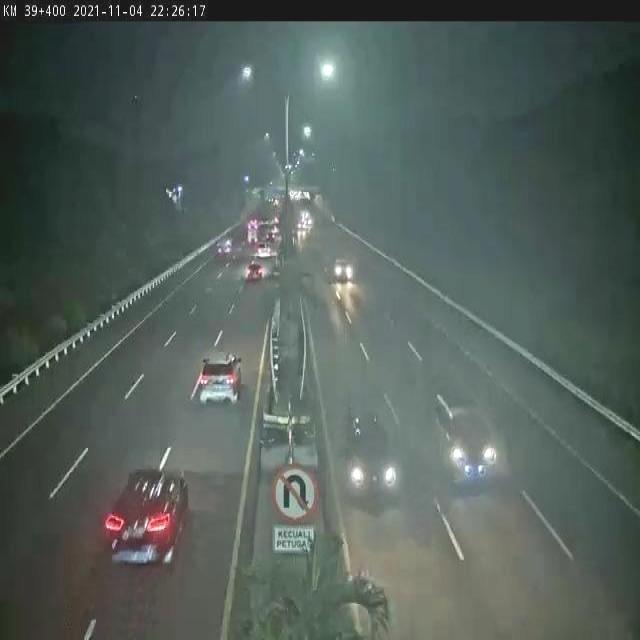Car: (106, 464, 190, 569), (198, 352, 243, 407), (332, 257, 354, 281), (246, 261, 264, 279), (257, 242, 272, 259), (266, 232, 275, 242)
